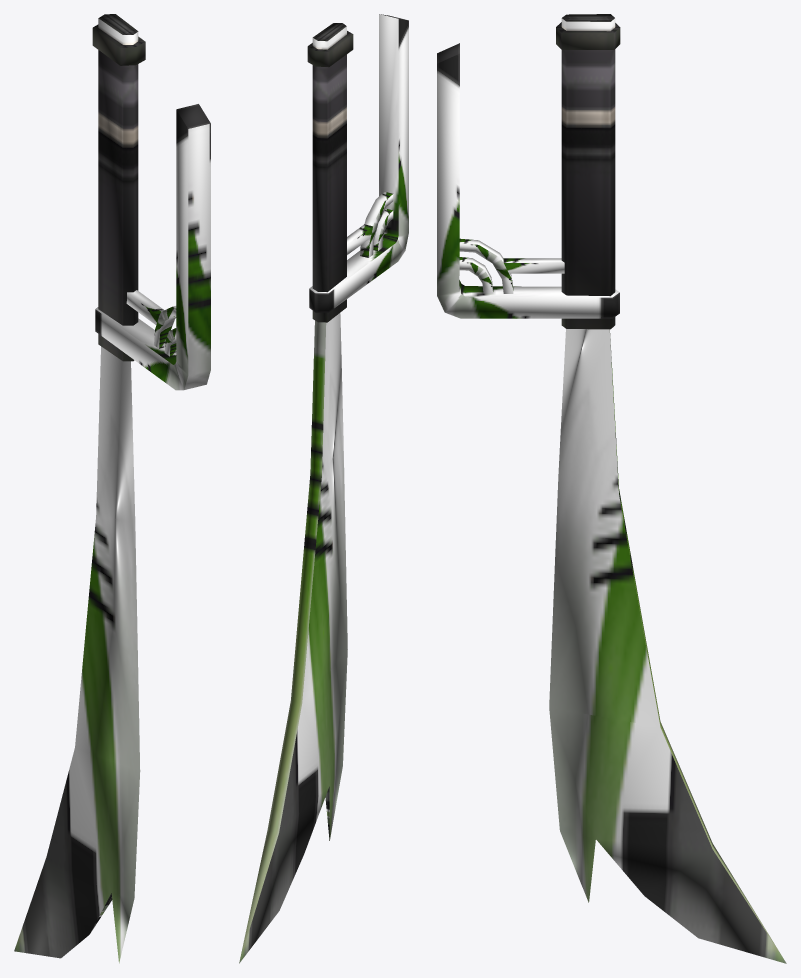
File: dualswords04l.obj
3 renders of one model, left to right at view 1: azimuth 30°, elevation 25°; view 2: azimuth 150°, elevation 25°; view 3: azimuth 270°, elevation 25°, orthographic. The views are drawn at different scales.
Parts seen in each view (by area): view 1: MDL_w2dsw04_bod00_001; view 2: MDL_w2dsw04_bod00_001; view 3: MDL_w2dsw04_bod00_001.
Boxes of the visible parts, <box> form: MDL_w2dsw04_bod00_001: <box>14,14,210,963</box>; MDL_w2dsw04_bod00_001: <box>239,14,408,963</box>; MDL_w2dsw04_bod00_001: <box>437,14,786,963</box>.
Bounding box in the file's own units: 0.0197 × 0.7502 × 0.2515.
